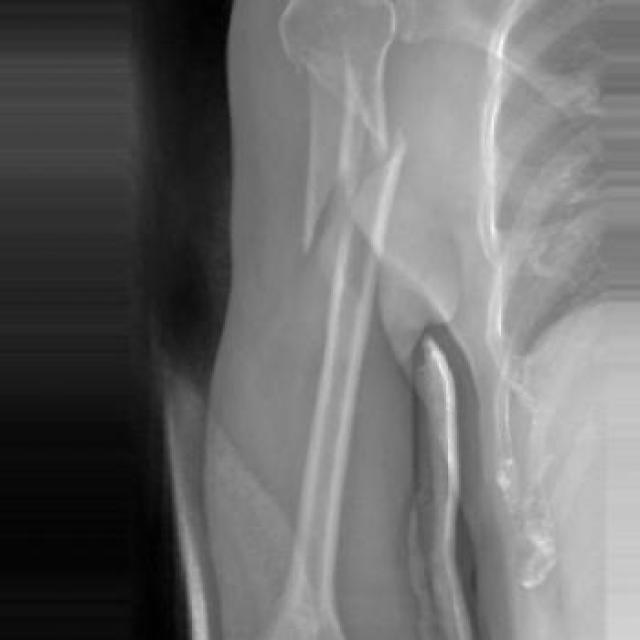Fracture: (274, 184, 398, 270)
